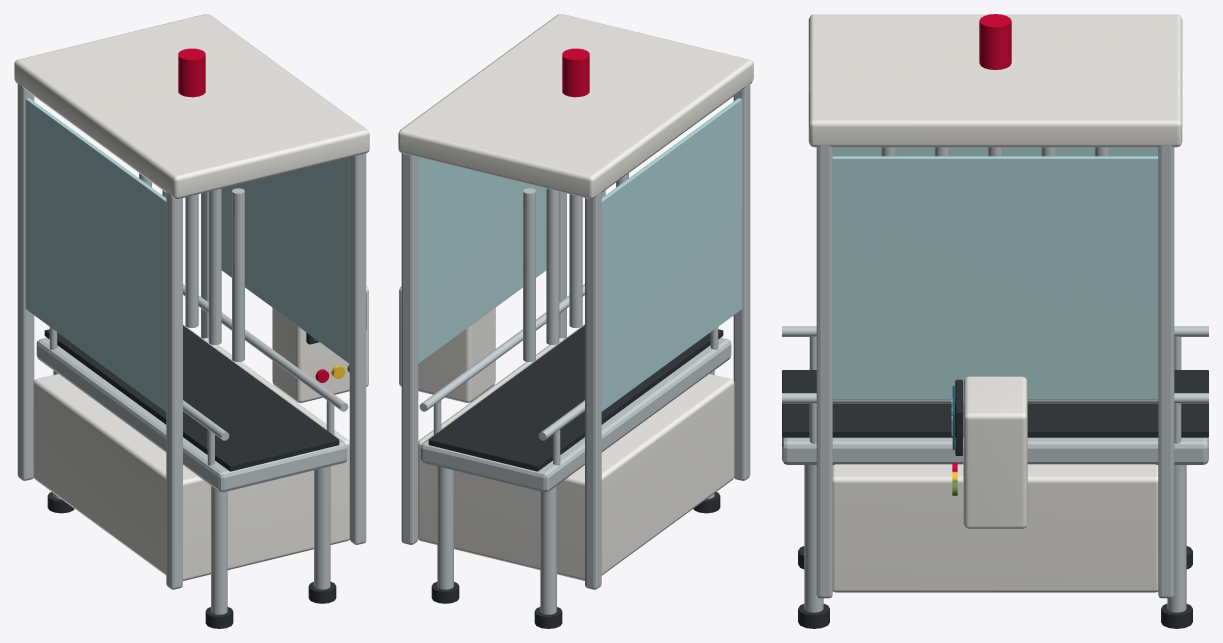
Rendered from Filling_Machine.fbx.
The picture shows the model from 3 angles, left to right: view 1: azimuth 30°, elevation 25°; view 2: azimuth 150°, elevation 25°; view 3: azimuth 270°, elevation 25°; orthographic projection. The views are drawn at different scales.
Parts seen in each view (by area): view 1: Filling_Machine_White, Filling_Machine_Glass, Filling_Machine_Steel, Filling_Machine_Rubber, Filling_Machine_Red; view 2: Filling_Machine_White, Filling_Machine_Glass, Filling_Machine_Steel, Filling_Machine_Rubber, Filling_Machine_Red; view 3: Filling_Machine_White, Filling_Machine_Glass, Filling_Machine_Steel, Filling_Machine_Rubber, Filling_Machine_Red.
Part boxes in pixels (bbox=[...]): Filling_Machine_White: bbox=[14, 14, 369, 580]; Filling_Machine_Glass: bbox=[25, 98, 349, 411]; Filling_Machine_Steel: bbox=[17, 83, 366, 614]; Filling_Machine_Rubber: bbox=[44, 293, 366, 628]; Filling_Machine_Red: bbox=[178, 48, 329, 382]; Filling_Machine_White: bbox=[398, 14, 753, 580]; Filling_Machine_Glass: bbox=[418, 98, 742, 411]; Filling_Machine_Steel: bbox=[401, 83, 750, 614]; Filling_Machine_Rubber: bbox=[428, 325, 723, 628]; Filling_Machine_Red: bbox=[562, 48, 589, 97]; Filling_Machine_White: bbox=[808, 14, 1182, 592]; Filling_Machine_Glass: bbox=[832, 147, 1158, 399]; Filling_Machine_Steel: bbox=[782, 145, 1208, 612]; Filling_Machine_Rubber: bbox=[782, 370, 1208, 628]; Filling_Machine_Red: bbox=[952, 14, 1011, 471].
Size of the model in its own units: 163 by 296 by 200.
